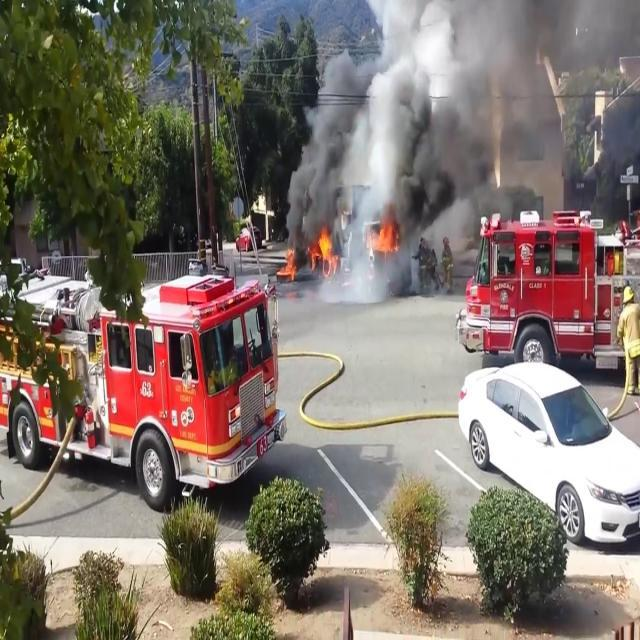Fire: (281, 224, 338, 281), (370, 211, 400, 260), (311, 224, 337, 274)
Smoke: (285, 0, 559, 236)
